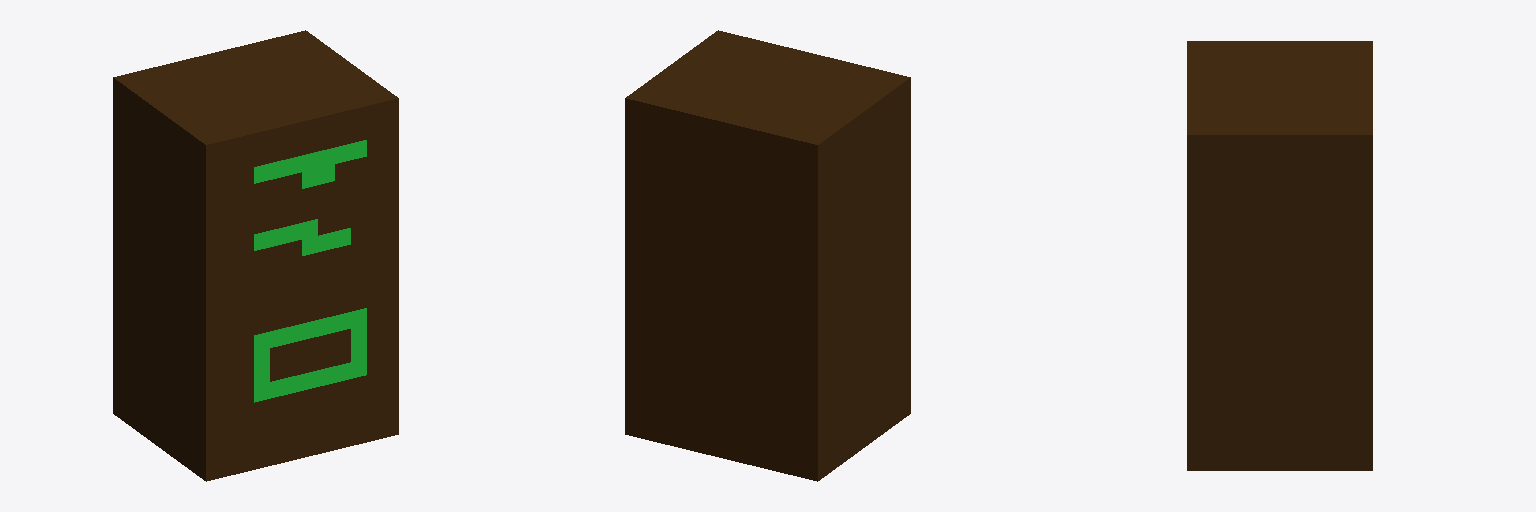
3 renders of one model, left to right at view 1: azimuth 30°, elevation 25°; view 2: azimuth 150°, elevation 25°; view 3: azimuth 270°, elevation 25°, orthographic.
Visible parts, largest first — view 1: object 1; view 2: object 1; view 3: object 1.
Part boxes in pixels (left/top/right/bottom): object 1: left=113, top=30, right=398, bottom=481; object 1: left=625, top=30, right=910, bottom=481; object 1: left=1187, top=41, right=1372, bottom=470.
Bounding box in the file's own units: 1.2 × 2 × 1.
Materials: 1 (1 with a texture image).